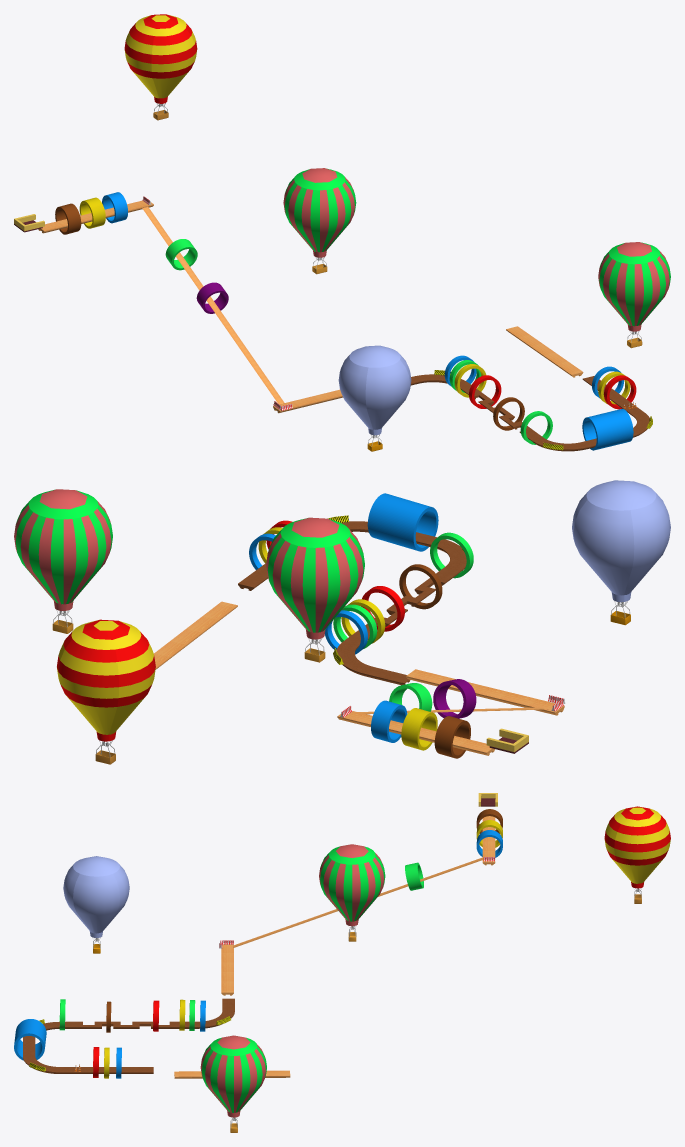
The model's file is LEVEL 23.fbx.
3 views of the same model, one above another, from view 1: azimuth 30°, elevation 25°; view 2: azimuth 150°, elevation 25°; view 3: azimuth 270°, elevation 25° (orthographic). The views are drawn at different scales.
Parts seen in each view (by area): view 1: ballon, ballon__2_, ballon__3_, ballon__1_, polySurface1, blue_ring__1_, wood_path, RoadElement2__4___2_, RoadElement2__4_; view 2: ballon__2_, ballon, ballon__3_, ballon__1_, polySurface1, blue_ring__1_, RoadElement2__4___1_, RoadElement2__4___2_, RoadElement2__4_, yellow, brown, blue (+8 smaller); view 3: ballon__2_, ballon__3_, ballon__1_, ballon, polySurface1, blue_ring__1_, wood_path, RoadElement2__4___1_.
Boxes of the visible parts, x1,y1,x2,y2 form: ballon: (124,14,197,120); ballon__2_: (283,168,356,274); ballon__3_: (598,242,670,348); ballon__1_: (338,345,411,451); polySurface1: (410,374,649,451); blue_ring__1_: (582,408,633,450); wood_path: (142,206,284,404); RoadElement2__4___2_: (506,326,583,377); RoadElement2__4_: (38,200,153,233); ballon__2_: (266,517,364,662); ballon: (57,619,155,764); ballon__3_: (14,489,112,633); ballon__1_: (572,480,670,625); polySurface1: (238,521,466,685); blue_ring__1_: (367,493,438,551); RoadElement2__4___1_: (406,669,564,715); RoadElement2__4___2_: (154,601,237,669); RoadElement2__4_: (337,711,494,755); yellow: (401,708,437,750); brown: (434,716,470,758); blue: (371,700,407,742); ballon__2_: (319,844,385,941); ballon__3_: (200,1035,266,1132); ballon__1_: (63,856,129,953); ballon: (604,806,670,903); polySurface1: (23,998,234,1073); blue_ring__1_: (14,1019,46,1060); wood_path: (233,857,482,947); RoadElement2__4___1_: (221,944,233,995).
Bounding box in the file's own units: 11141 × 4768 × 13672.
Materials: 24 (11 with a texture image).
